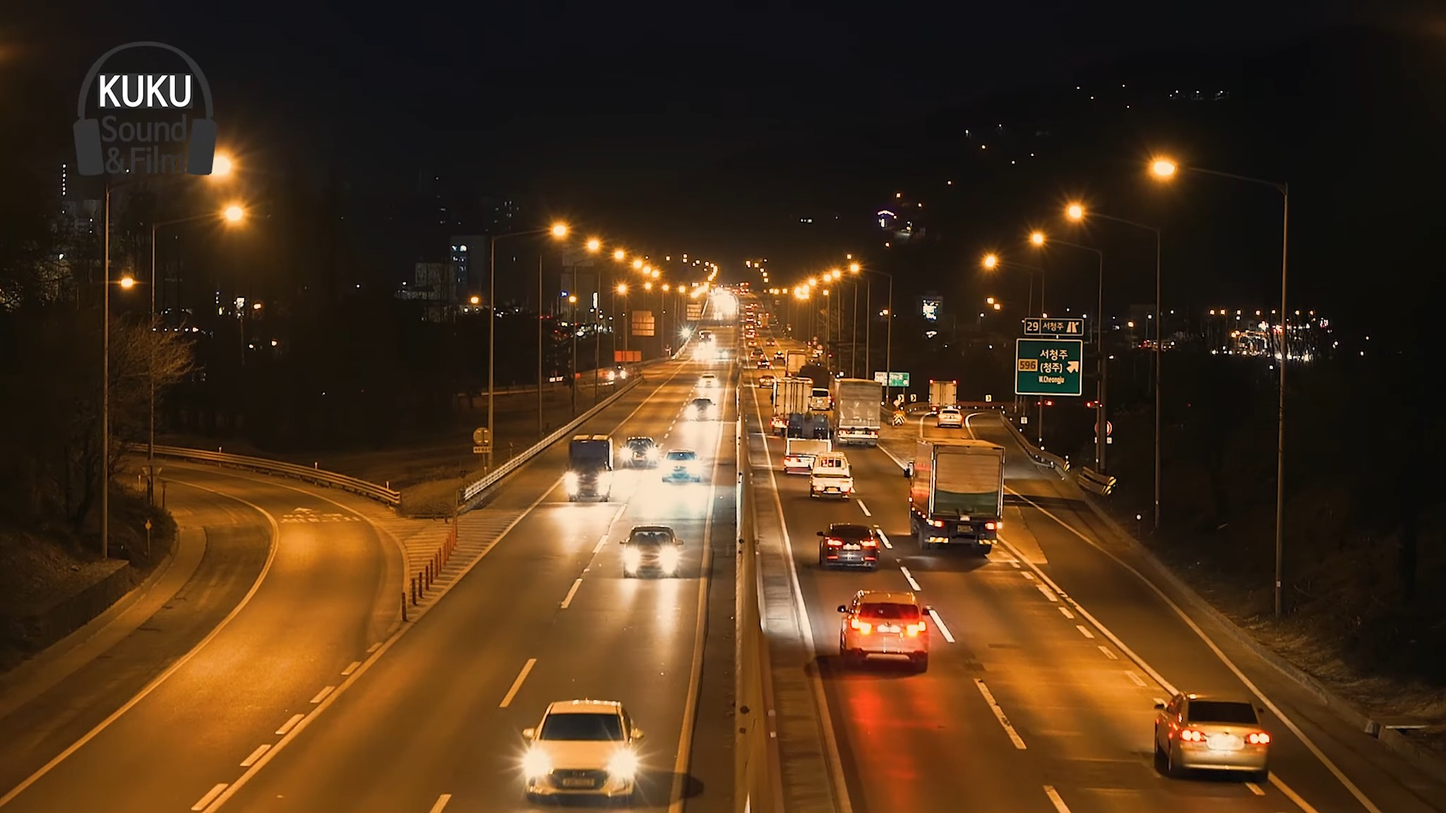car: (516, 694, 647, 804), (1157, 688, 1275, 783), (841, 590, 931, 666), (814, 521, 883, 574), (622, 519, 679, 580)
truck: (906, 436, 1007, 556), (563, 434, 614, 500)
